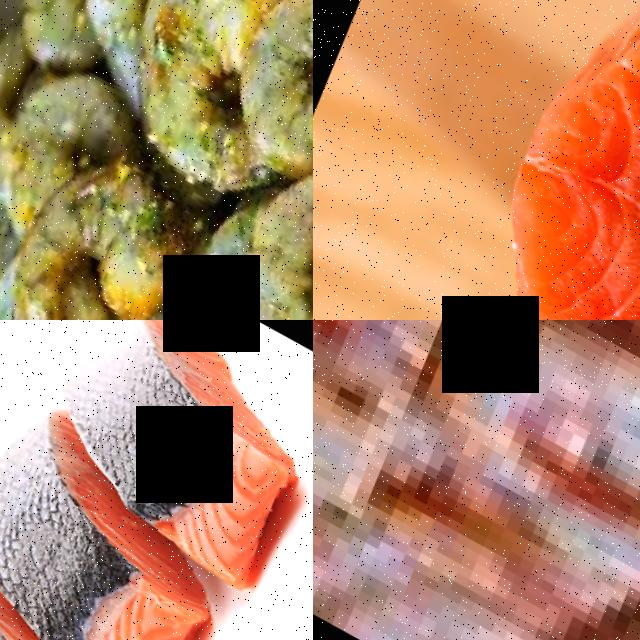salmon: (385, 0, 640, 320), (45, 320, 313, 586), (0, 462, 228, 640), (553, 51, 640, 320)
shrimp: (63, 0, 309, 190), (0, 123, 223, 320), (161, 138, 313, 320), (191, 0, 313, 218)
